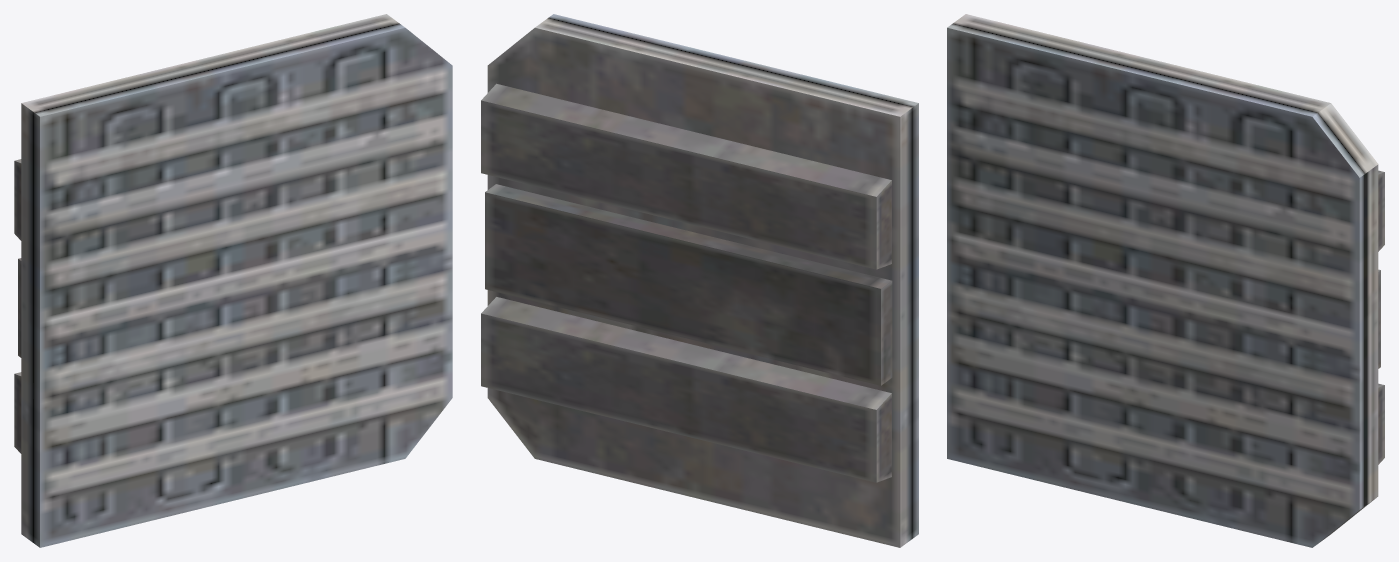
The model's file is eqp_comp_armor_layer.fbx.
3 views of the same model, side by side, from view 1: azimuth 30°, elevation 25°; view 2: azimuth 150°, elevation 25°; view 3: azimuth 330°, elevation 25° (orthographic).
Visible parts, largest first — view 1: mesh_node; view 2: mesh_node; view 3: mesh_node.
Part boxes in pixels (x1,y1,x2,y2): mesh_node: [14, 14, 452, 547]; mesh_node: [481, 14, 918, 547]; mesh_node: [947, 14, 1384, 547].
Bounding box in the file's own units: 0.6012 × 0.6002 × 0.0861.
1 material, 1 textured.
